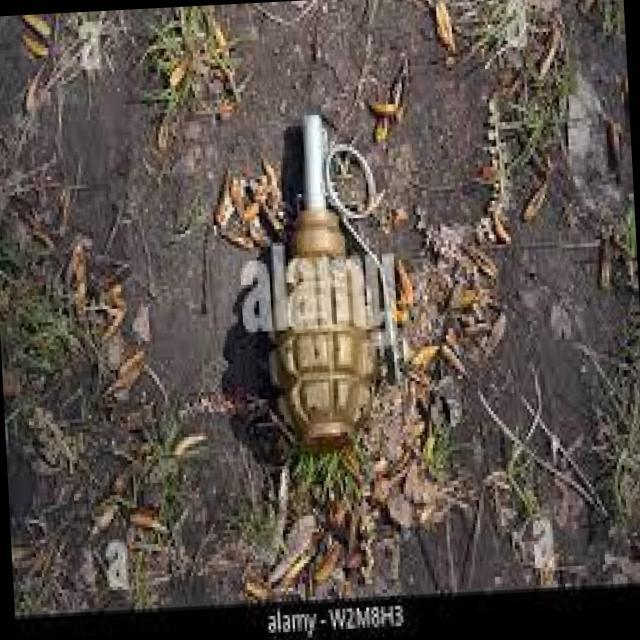grenade: (233, 106, 393, 464)
